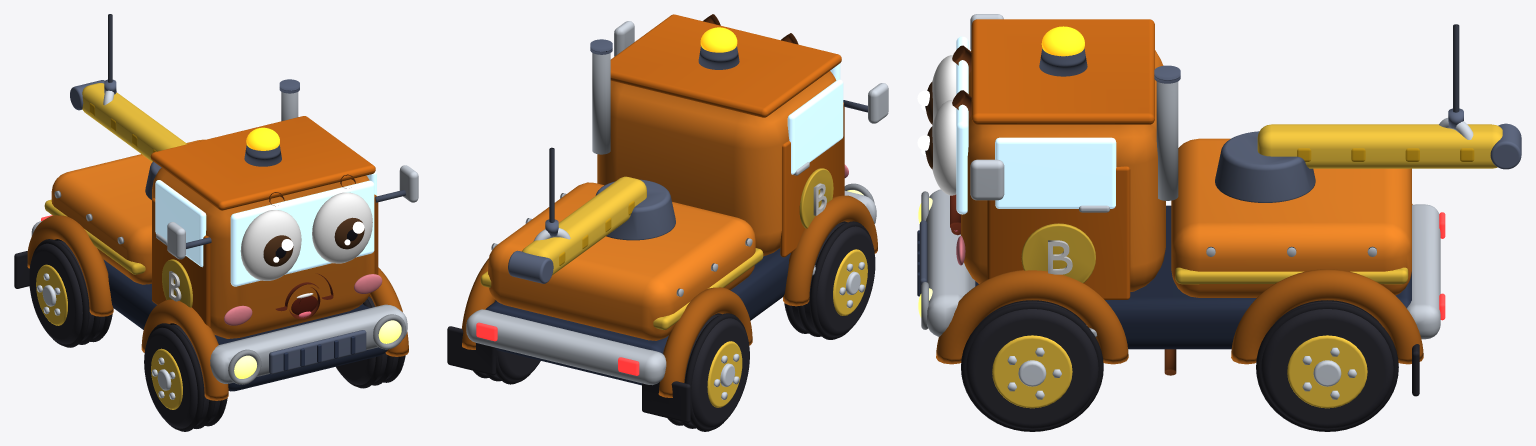
File: bruno.glb
The picture shows the model from 3 angles, left to right: view 1: azimuth 30°, elevation 25°; view 2: azimuth 150°, elevation 25°; view 3: azimuth 270°, elevation 25°; orthographic projection. The views are drawn at different scales.
Visible parts, largest first — view 1: cuerpo, cristales, brazo_viga, ruedaRR_neu, ruedaFR_neu, ojoL_blanco, ojoR_blanco, ruedaRR_llanta, ruedaFR_llanta, ruedaFL_neu, ruedaRR_dib0, ruedaFR_dib0 (+3 smaller); view 2: cuerpo, brazo_viga, ruedaFR_neu, cristales, ruedaRR_neu, ruedaRR_llanta, ruedaFR_llanta, polea, ruedaFR_dib0, ruedaRR_dib0, ruedaRL_neu, baliza (+1 smaller); view 3: cuerpo, cristales, brazo_viga, ruedaRL_neu, ruedaFL_neu, ruedaFL_llanta, ruedaRL_llanta, ruedaFL_dib2, ruedaRL_dib2, ojoL_blanco, polea, ojoR_blanco (+4 smaller).
Part boxes in pixels (x1=…): cuerpo: x1=14, y1=79, x2=418, y2=400; cristales: x1=155, y1=171, x2=376, y2=286; brazo_viga: x1=82, y1=83, x2=187, y2=161; ruedaRR_neu: x1=29, y1=240, x2=112, y2=344; ruedaFR_neu: x1=144, y1=324, x2=227, y2=428; ojoL_blanco: x1=312, y1=192, x2=372, y2=263; ojoR_blanco: x1=240, y1=210, x2=301, y2=280; ruedaRR_llanta: x1=36, y1=264, x2=67, y2=325; ruedaFR_llanta: x1=151, y1=348, x2=182, y2=409; ruedaFL_neu: x1=336, y1=296, x2=405, y2=385; ruedaRR_dib0: x1=32, y1=239, x2=89, y2=347; ruedaFR_dib0: x1=147, y1=323, x2=204, y2=431; cuerpo: x1=447, y1=14, x2=888, y2=422; brazo_viga: x1=522, y1=176, x2=646, y2=275; ruedaFR_neu: x1=784, y1=223, x2=875, y2=336; cristales: x1=787, y1=63, x2=843, y2=174; ruedaRR_neu: x1=677, y1=314, x2=749, y2=428; ruedaRR_llanta: x1=707, y1=341, x2=742, y2=407; ruedaFR_llanta: x1=833, y1=249, x2=867, y2=315; polea: x1=508, y1=250, x2=553, y2=283; ruedaFR_dib0: x1=809, y1=221, x2=872, y2=339; ruedaRR_dib0: x1=684, y1=313, x2=746, y2=431; ruedaRL_neu: x1=483, y1=300, x2=540, y2=380; baliza: x1=700, y1=27, x2=737, y2=52; cuerpo: x1=917, y1=14, x2=1445, y2=396; cristales: x1=956, y1=36, x2=1116, y2=214; brazo_viga: x1=1257, y1=124, x2=1502, y2=168; ruedaRL_neu: x1=1261, y1=301, x2=1393, y2=429; ruedaFL_neu: x1=966, y1=301, x2=1098, y2=429; ruedaFL_llanta: x1=992, y1=335, x2=1072, y2=408; ruedaRL_llanta: x1=1287, y1=335, x2=1367, y2=408; ruedaFL_dib2: x1=961, y1=302, x2=1103, y2=431; ruedaRL_dib2: x1=1256, y1=302, x2=1398, y2=431; ojoL_blanco: x1=932, y1=100, x2=956, y2=195; polea: x1=1490, y1=123, x2=1521, y2=169; ojoR_blanco: x1=932, y1=55, x2=956, y2=124.
Size of the model in its own units: 2.31 by 2.44 by 3.89.
